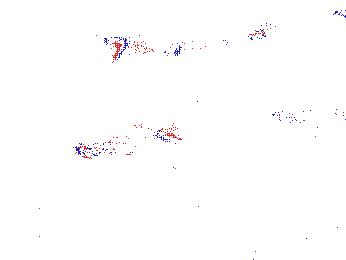X-ray fish: (117, 50, 147, 72)
red belly glassfish: (245, 24, 281, 42)
redtail glassfish: (71, 121, 178, 160), (271, 99, 343, 125), (111, 32, 176, 60), (172, 36, 233, 59)
